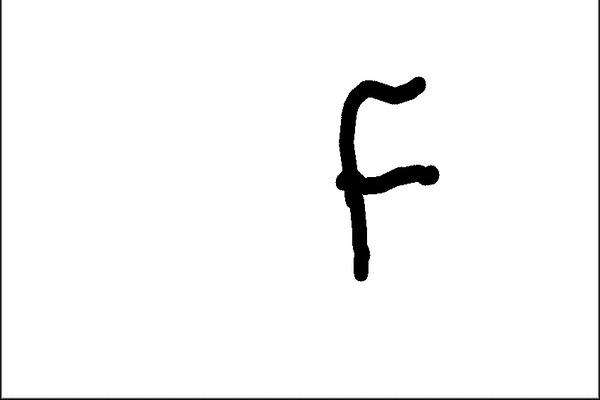F: (331, 72, 442, 285)
